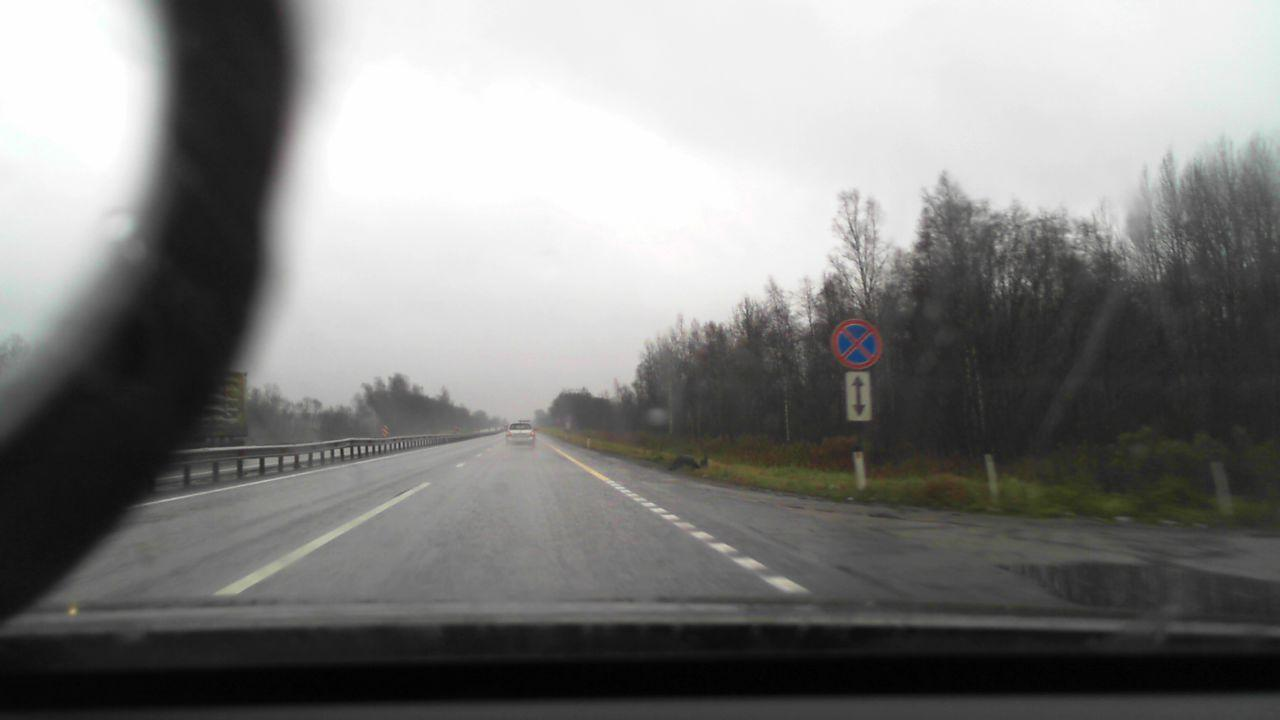3_27: (825, 319, 883, 369)
8_2_4: (844, 371, 872, 422)
